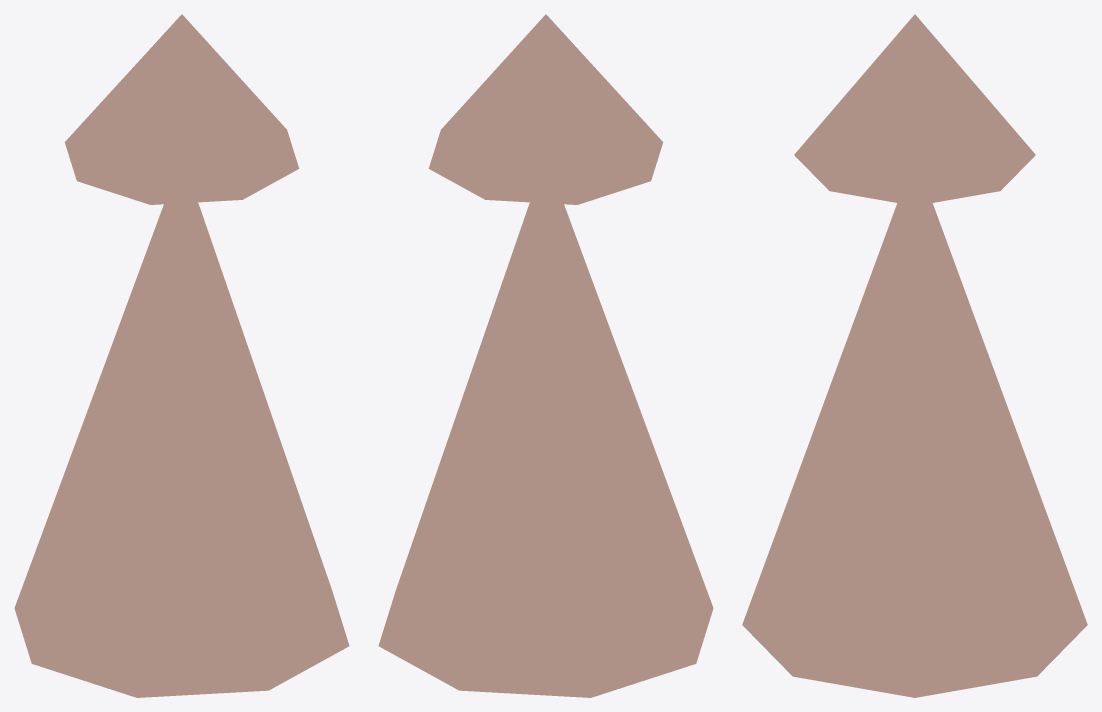
Rendered from peri-bacasi-ornek.glb.
3 views of the same model, side by side, from view 1: azimuth 30°, elevation 25°; view 2: azimuth 150°, elevation 25°; view 3: azimuth 270°, elevation 25° (orthographic).
Parts seen in each view (by area): view 1: peri-bacasi; view 2: peri-bacasi; view 3: peri-bacasi.
Part boxes in pixels (box(x1,y1,x2,y2)): peri-bacasi: box(14, 14, 349, 697); peri-bacasi: box(378, 14, 713, 697); peri-bacasi: box(742, 14, 1087, 697).
Size of the model in its own units: 2 by 3.9 by 2.
